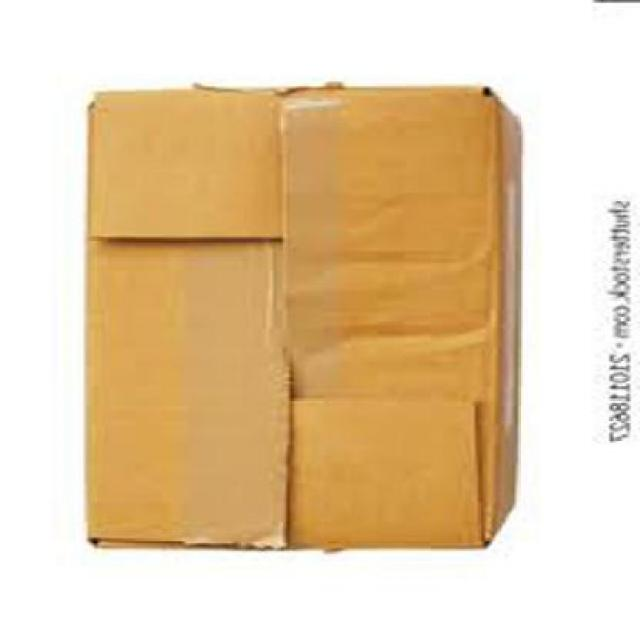normal: (75, 77, 528, 558)
